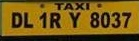character: (67, 11, 81, 27), (10, 11, 22, 29), (48, 11, 60, 29), (89, 12, 100, 28), (23, 11, 33, 28), (100, 12, 110, 28), (110, 12, 120, 28), (121, 12, 131, 27), (39, 11, 47, 29)
